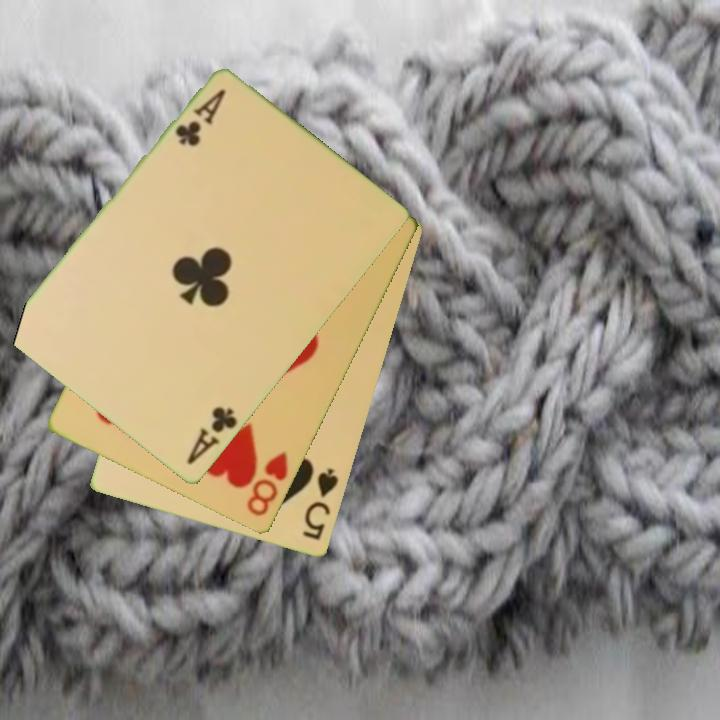5s: (299, 465, 342, 544)
8h: (243, 447, 292, 520)
Ac: (171, 85, 229, 150), (183, 403, 240, 469)
